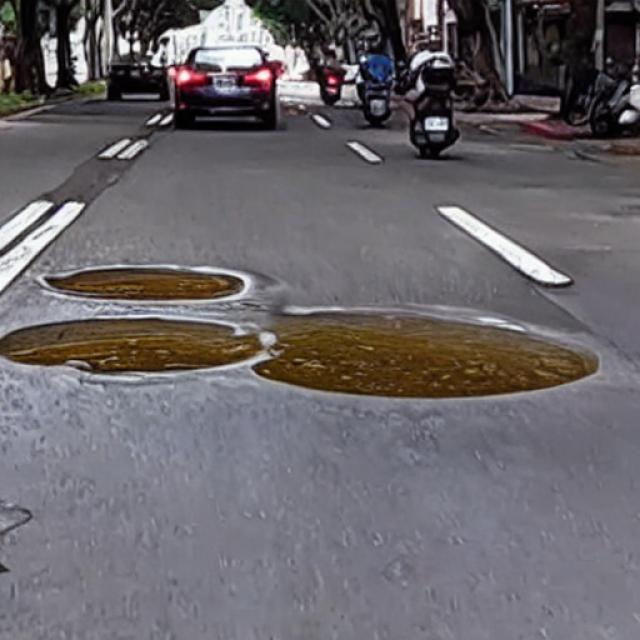puddle: (259, 310, 598, 401), (1, 318, 258, 375), (45, 268, 253, 303)
